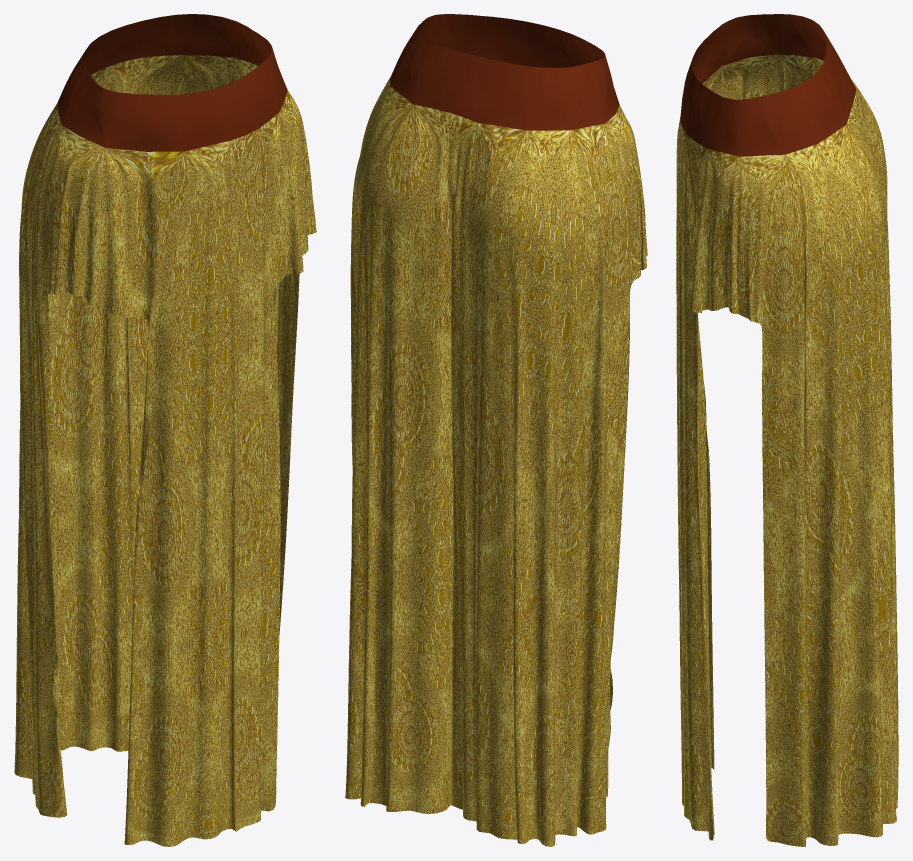
Rendered from bellydancer_Skirt.fbx.
The picture shows the model from 3 angles, left to right: view 1: azimuth 30°, elevation 25°; view 2: azimuth 150°, elevation 25°; view 3: azimuth 270°, elevation 25°; orthographic projection.
Visible parts, largest first — view 1: Skirt; view 2: Skirt; view 3: Skirt.
Boxes of the visible parts, left/top/right/bottom form: Skirt: left=14, top=14, right=316, bottom=846; Skirt: left=345, top=14, right=647, bottom=846; Skirt: left=676, top=14, right=898, bottom=846.
Size of the model in its own units: 36.8 by 103 by 27.36.
